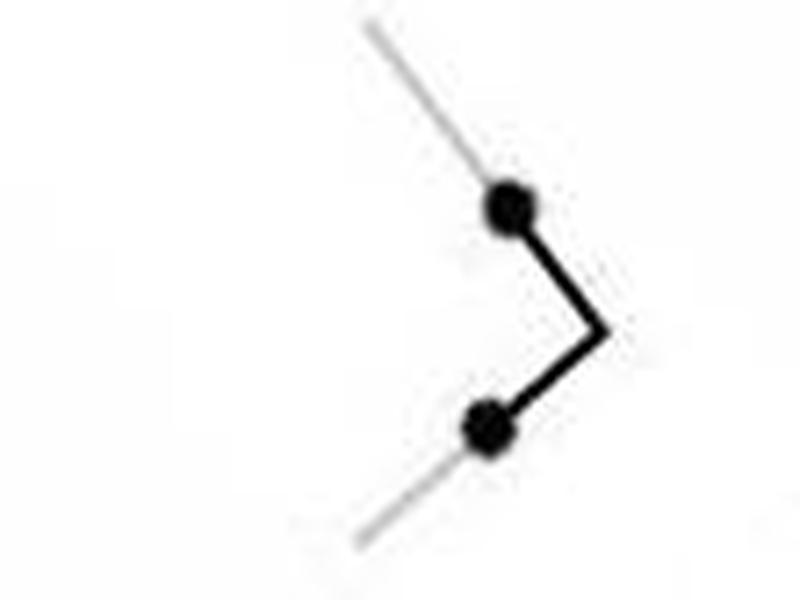butt_weld_90: (260, 104, 717, 561)
